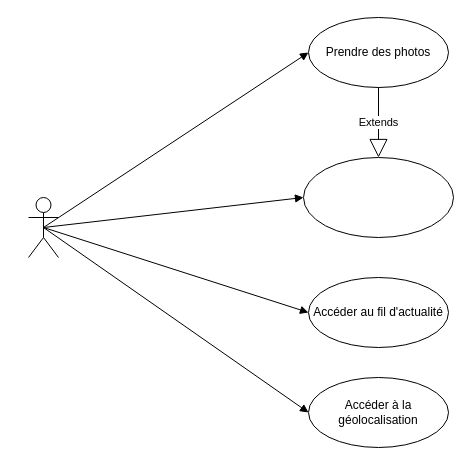
This 471x465 diagram has some shape labels left out. The shapes that lost their labels are listed below. From the top down, each one's centre as x and y in pixels, then its label:
At pixel 378 197: "Créer des publication (image, légende et localisation)".
At pixel 43 227: "Utilisateur".
